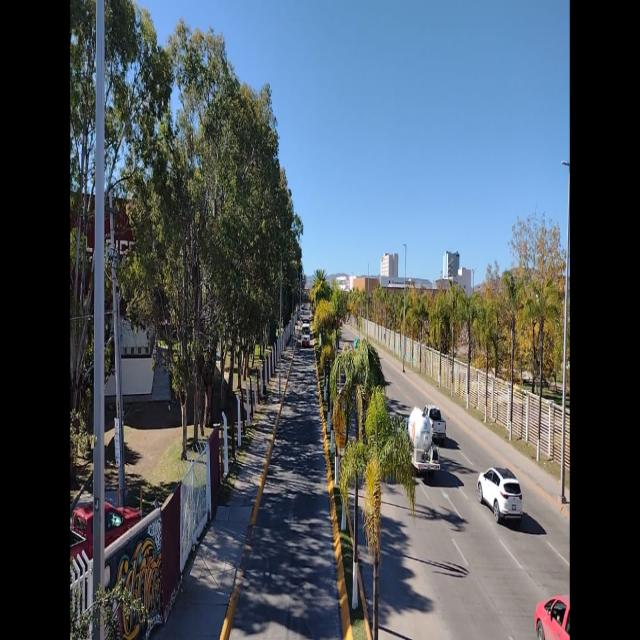Auto: (477, 461, 527, 525), (531, 581, 570, 640)
